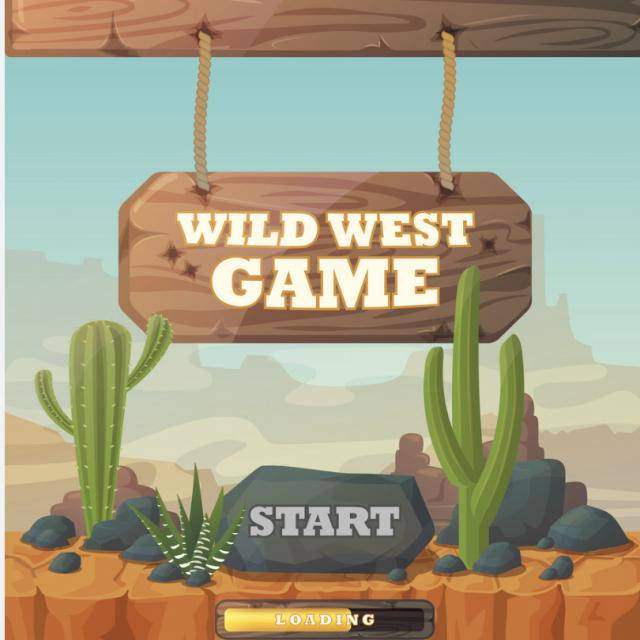Start-button: (204, 478, 442, 579)
